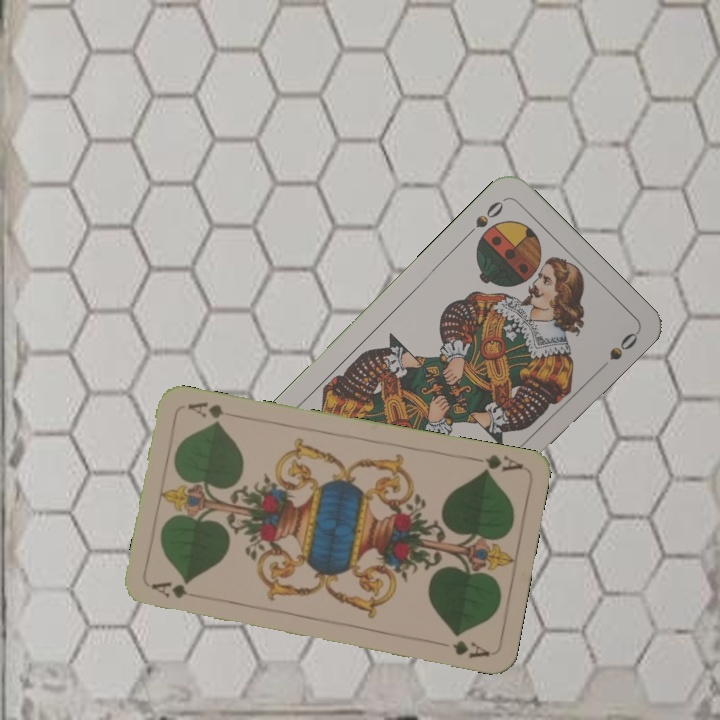GA: (466, 450, 526, 476), (148, 578, 206, 601)
SO: (461, 195, 508, 240)
